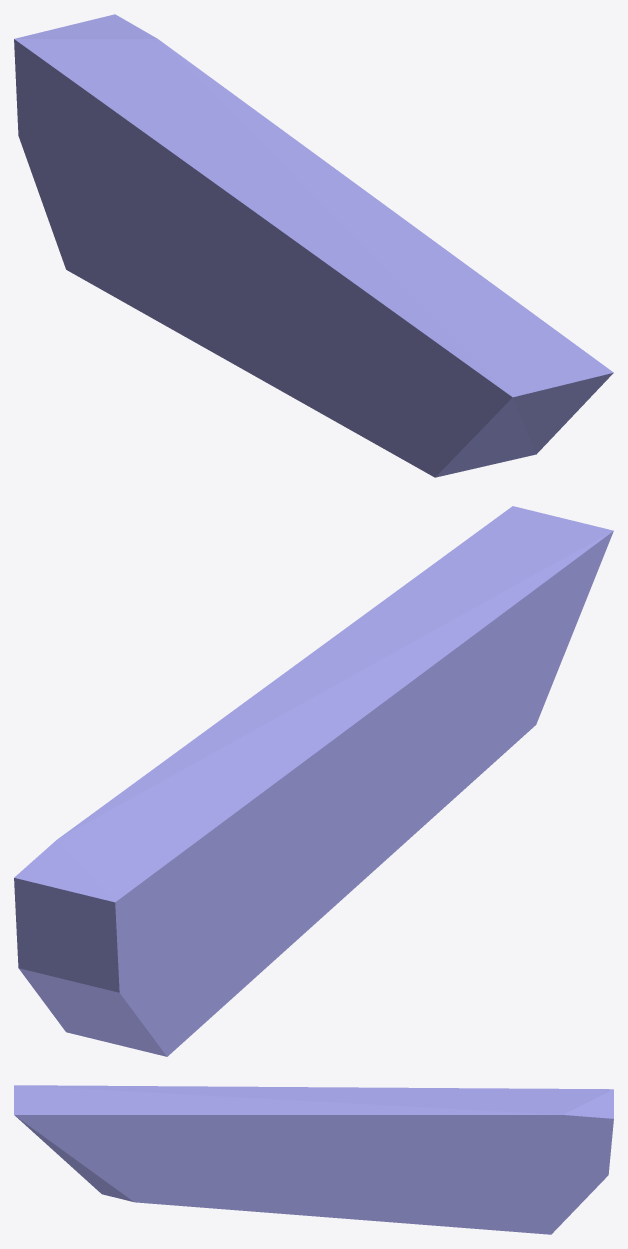
The model's file is dvkr_robot_Lp22_respondable_ECM_coll_1.dae.
The picture shows the model from 3 angles, top to bottom: view 1: azimuth 30°, elevation 25°; view 2: azimuth 150°, elevation 25°; view 3: azimuth 270°, elevation 25°; orthographic projection. The views are drawn at different scales.
Visible parts, largest first — view 1: Node_0000023514CD9BB0; view 2: Node_0000023514CD9BB0; view 3: Node_0000023514CD9BB0.
Boxes of the visible parts, left/top/right/bottom form: Node_0000023514CD9BB0: left=14, top=14, right=613, bottom=477; Node_0000023514CD9BB0: left=14, top=506, right=613, bottom=1056; Node_0000023514CD9BB0: left=14, top=1085, right=613, bottom=1234.
Bounding box in the file's own units: 0.045 × 0.0847 × 0.3842.
